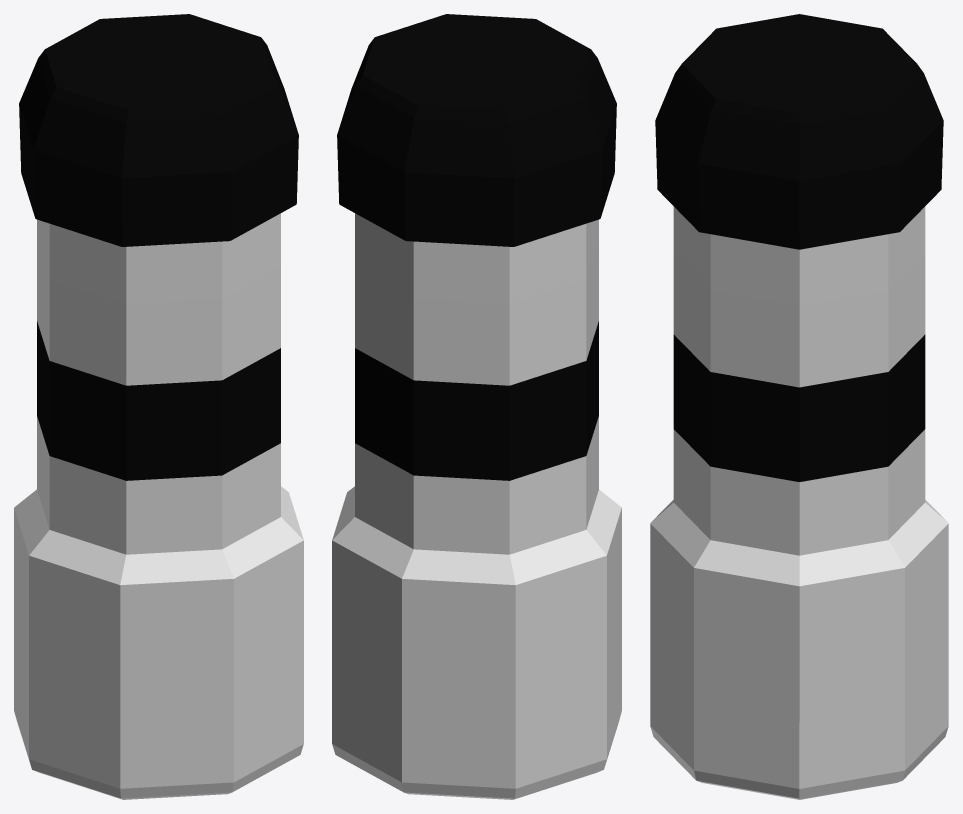
Rendered from Ma_Spice_4.fbx.
The picture shows the model from 3 angles, left to right: view 1: azimuth 30°, elevation 25°; view 2: azimuth 150°, elevation 25°; view 3: azimuth 270°, elevation 25°; orthographic projection.
Parts seen in each view (by area): view 1: Ma_Spice_4; view 2: Ma_Spice_4; view 3: Ma_Spice_4.
Boxes of the visible parts, x1=… form: Ma_Spice_4: x1=14, y1=14, x2=303, y2=799; Ma_Spice_4: x1=332, y1=14, x2=621, y2=799; Ma_Spice_4: x1=650, y1=14, x2=948, y2=799.
Bounding box in the file's own units: 40.47 × 40.47 × 101.
